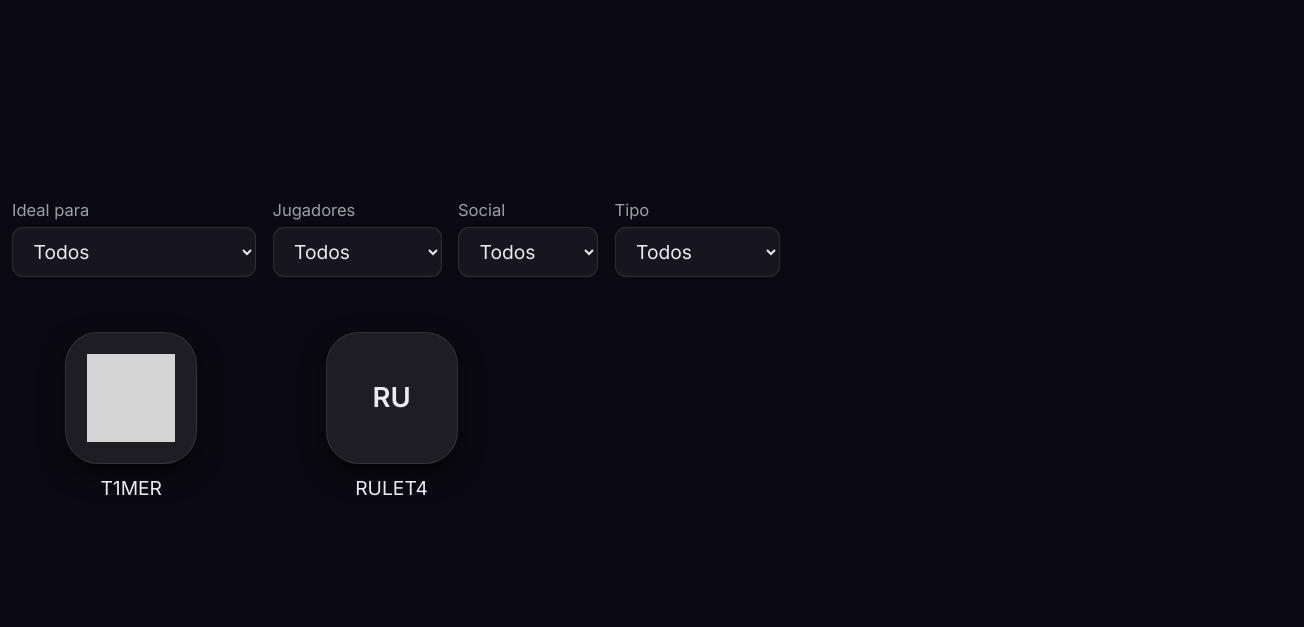
Test: GameGate – create/join view › Crear button is enabled when gameId is valid and canCreateGame
The width and height of the screenshot is (1304, 627).
Click the button "T1MER": (131, 417) [61,332,201,502]
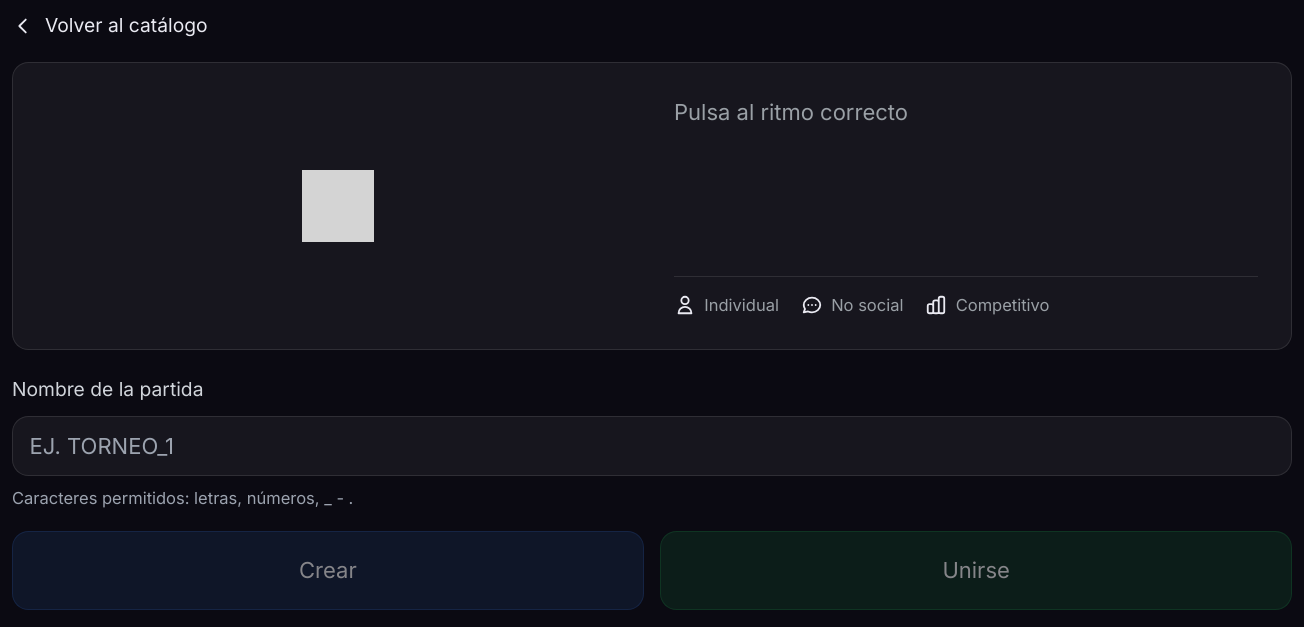
In the field labelled "Nombre de la partida": (652, 446) [12,416,1292,476], type "TORNEO1"
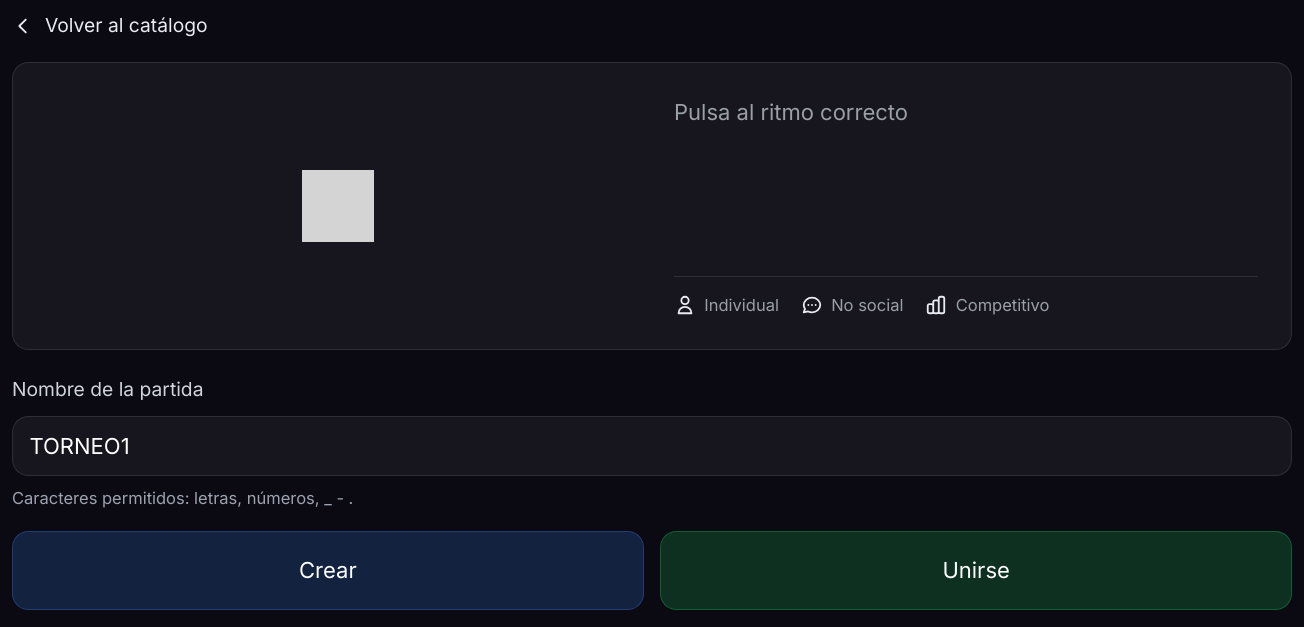
Expected: the button "Crear" is enabled, [12,531,644,610]
